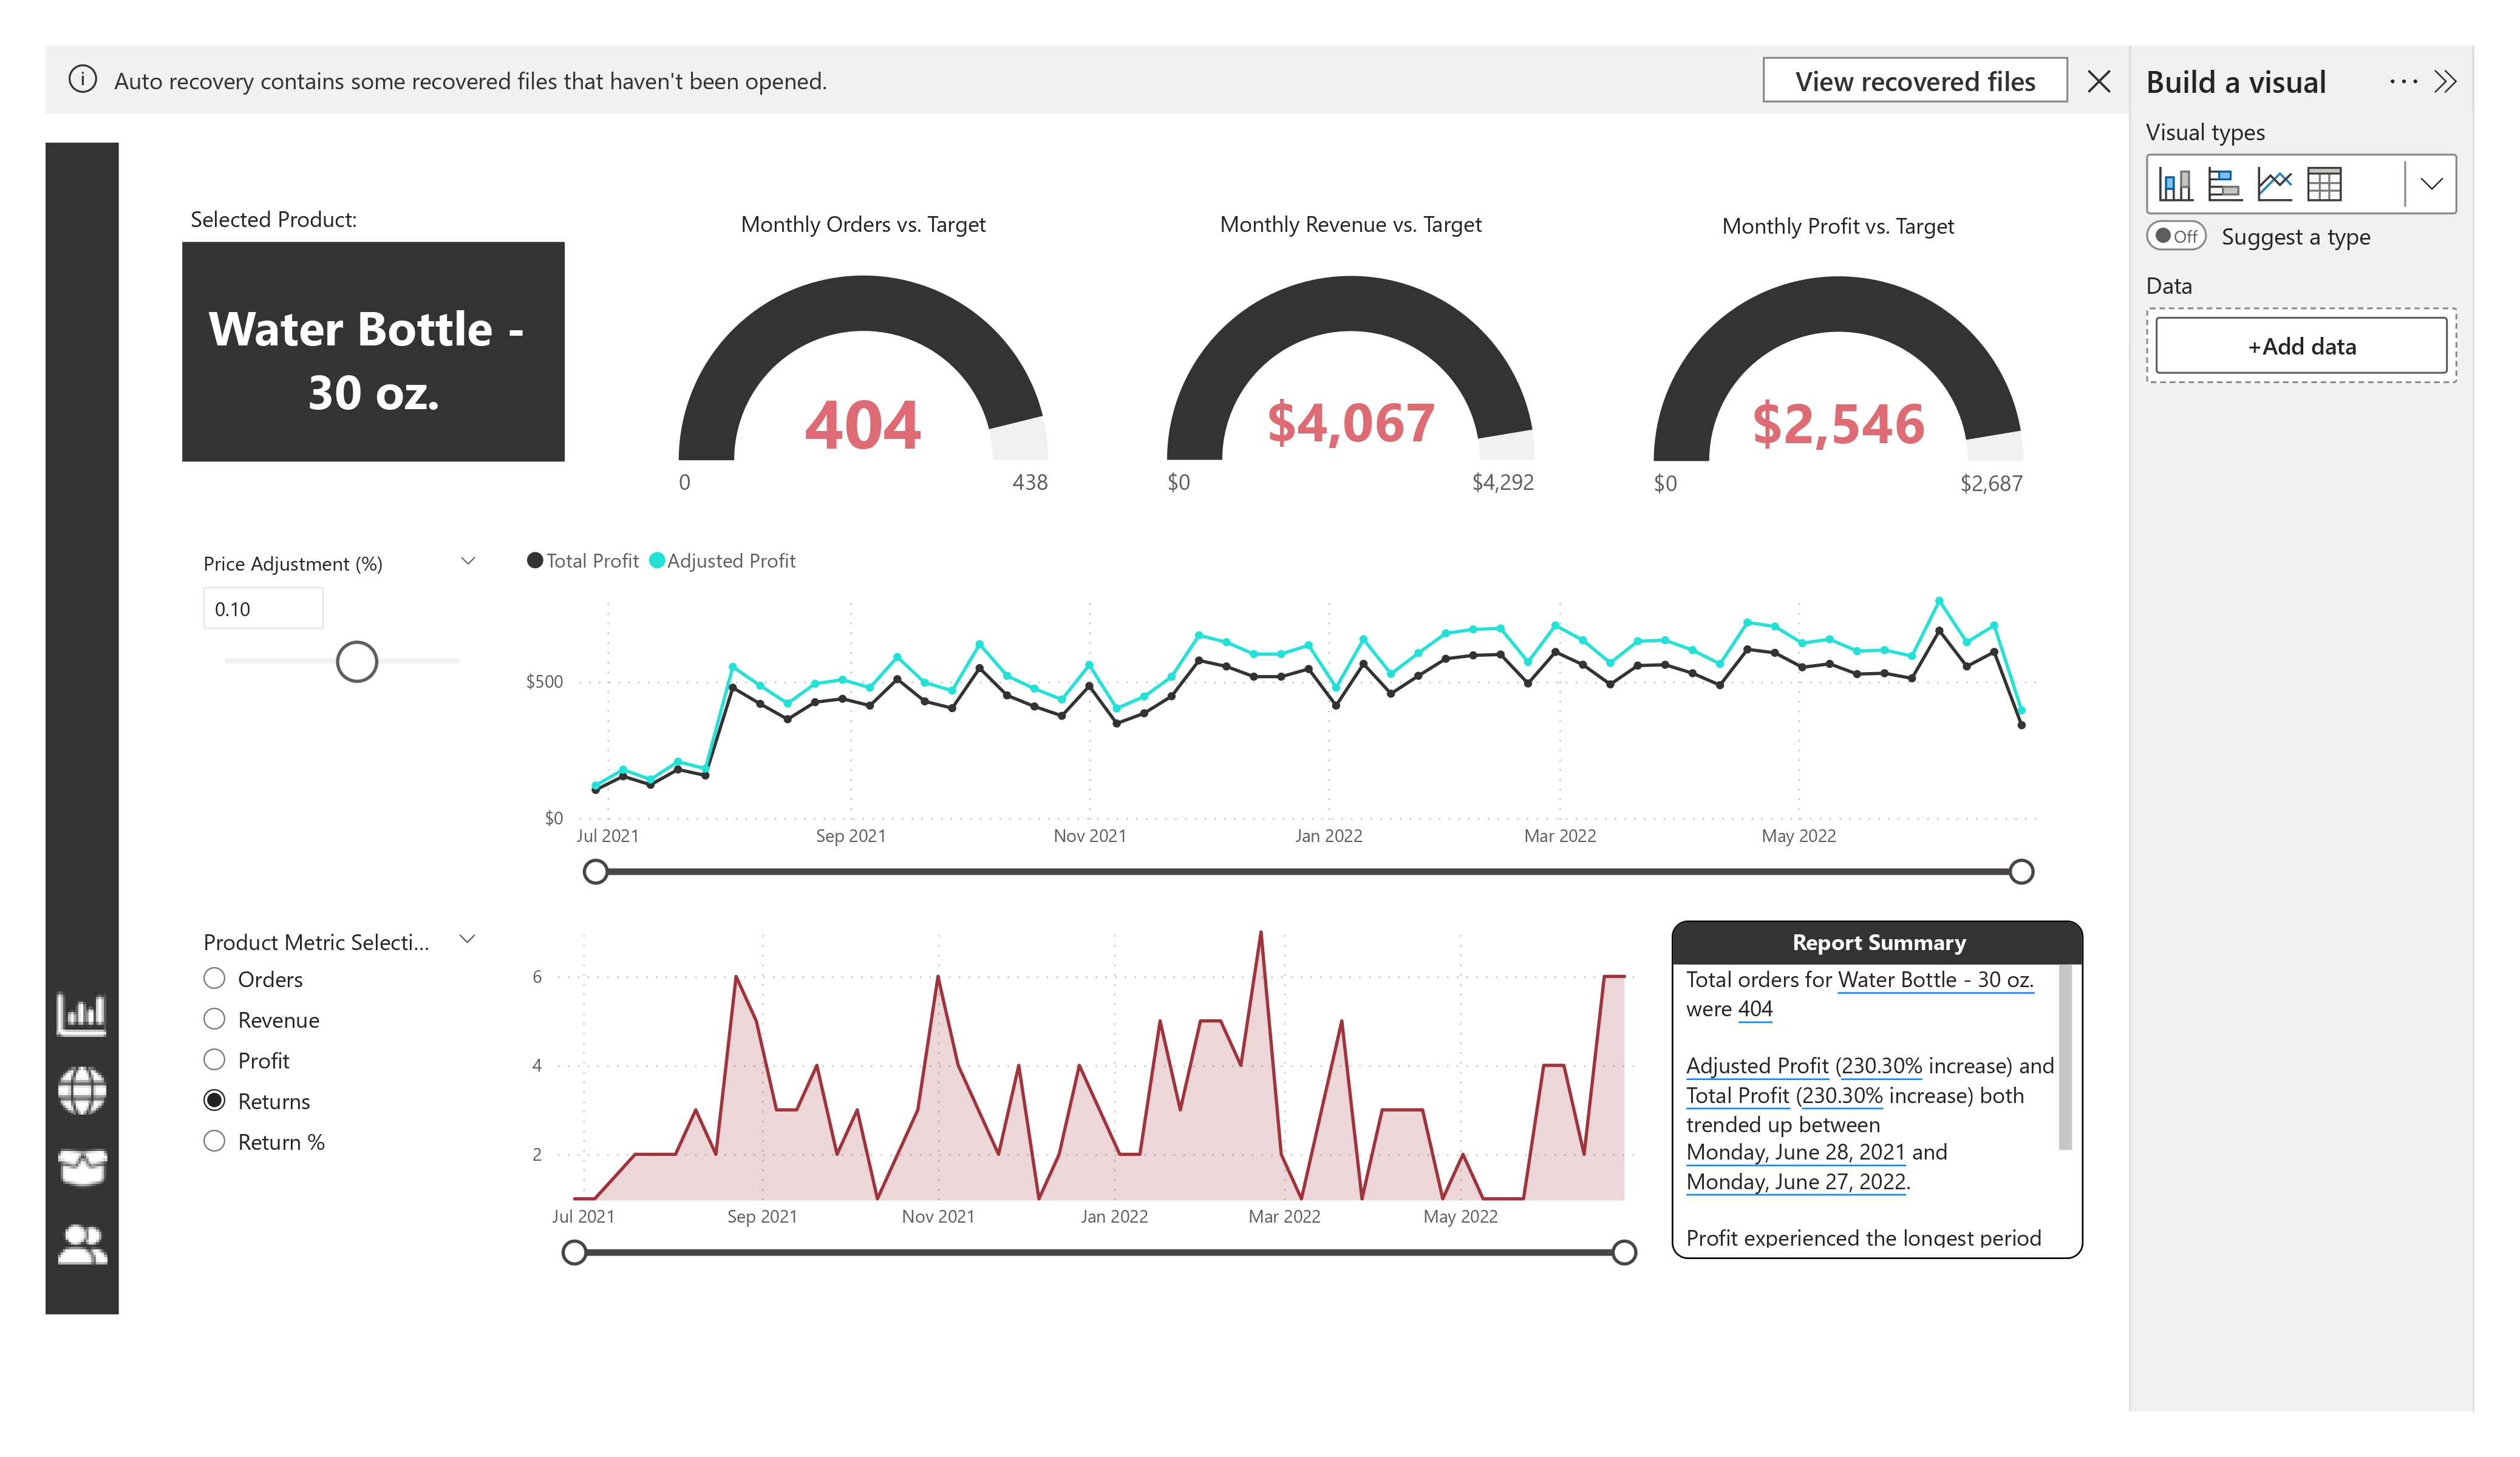

The page's visual inventory and layout, read from the dashboard file:
{"tool":"powerbi","page":{"name":"Product Detail","canvas":[1280,720],"ordinal":2},"visuals":[{"type":"shape","box":[0,0,45,720],"z":0},{"type":"actionButton","box":[2.5,516.7,45.6,37.8],"z":0,"group":"g1"},{"type":"gauge","title":"Monthly Orders vs. Target","fields":{"Y":["Measure Table.Total Orders"],"MaxValue":["Measure Table.Order Target"]},"box":[383.7,41.5,236.9,203.7],"z":1000},{"type":"actionButton","box":[3.3,563.4,45.6,37.8],"z":1000,"group":"g1"},{"type":"gauge","title":"Monthly Revenue vs. Target","fields":{"Y":["Measure Table.Total Revenue"],"MaxValue":["Measure Table.Revenue Target"]},"box":[683.5,41.5,236.9,203.7],"z":2000},{"type":"actionButton","box":[3.3,611.1,45.6,37.8],"z":2000,"group":"g1"},{"type":"gauge","title":"Monthly Profit vs. Target","fields":{"Y":["Measure Table.Total Profit"],"MaxValue":["Measure Table.Profit Target"]},"box":[983.4,41.8,236.2,203.5],"z":3000},{"type":"actionButton","box":[3.3,657.8,45.6,37.8],"z":3000,"group":"g1"},{"type":"lineChart","title":"Profit Trending","fields":{"Category":["Calendar Lookup.Date Hierarchy.Year","Calendar Lookup.Date Hierarchy.Start of Month","Calendar Lookup.Date Hierarchy.Start of Week","Calendar Lookup.Date Hierarchy.Date"],"Y":["Measure Table.Total Profit","Measure Table.Adjusted Profit"]},"box":[290.5,237.4,952.8,221.5],"z":4000},{"type":"areaChart","title":"Return Trending","fields":{"Y":["Measure Table.Total Returns"],"Category":["Calendar Lookup.Date Hierarchy.Year","Calendar Lookup.Date Hierarchy.Start of Month","Calendar Lookup.Date Hierarchy.Start of Week","Calendar Lookup.Date Hierarchy.Date"]},"box":[290.5,471.3,708.7,221.5],"z":5000},{"type":"card","fields":{"Values":["Min(Product Lookup.ProductName)"]},"box":[83.6,61,235.1,134.5],"z":6000},{"type":"textbox","box":[83.6,32.8,136.8,36.2],"z":7000},{"type":"group","id":"g1","title":"Navigation Buttons","box":[2.5,516.7,46.4,178.9],"z":8000},{"type":"slicer","fields":{"Values":["Price Adjustment (%).Price Adjustment (%)"]},"box":[83.6,245.3,193.3,123.2],"z":9000},{"type":"slicer","fields":{"Values":["Product Metric Selection.Product Metric Selection"]},"box":[83.6,477,193.3,180.8],"z":10000},{"type":"textbox","title":"Report Summary","box":[999.2,478.1,253.2,208],"z":11000}]}

Visuals, with their boxes on the page's 1280x720 design canvas (x1, y1, x2, y2). These are canvas units, not pixel positions in the 2520x1457 screenshot, which may show the page scaled, cropped or inside an application window:
shape: 0:0:45:720
actionButton: 2:517:48:554
"Monthly Orders vs. Target" gauge: 384:42:621:245
actionButton: 3:563:49:601
"Monthly Revenue vs. Target" gauge: 684:42:920:245
actionButton: 3:611:49:649
"Monthly Profit vs. Target" gauge: 983:42:1220:245
actionButton: 3:658:49:696
"Profit Trending" lineChart: 290:237:1243:459
"Return Trending" areaChart: 290:471:999:693
card - Min(Product Lookup.ProductName): 84:61:319:196
textbox: 84:33:220:69
"Navigation Buttons" group: 2:517:49:696
slicer - Price Adjustment (%).Price Adjustment (%): 84:245:277:368
slicer - Product Metric Selection.Product Metric Selection: 84:477:277:658
"Report Summary" textbox: 999:478:1252:686
